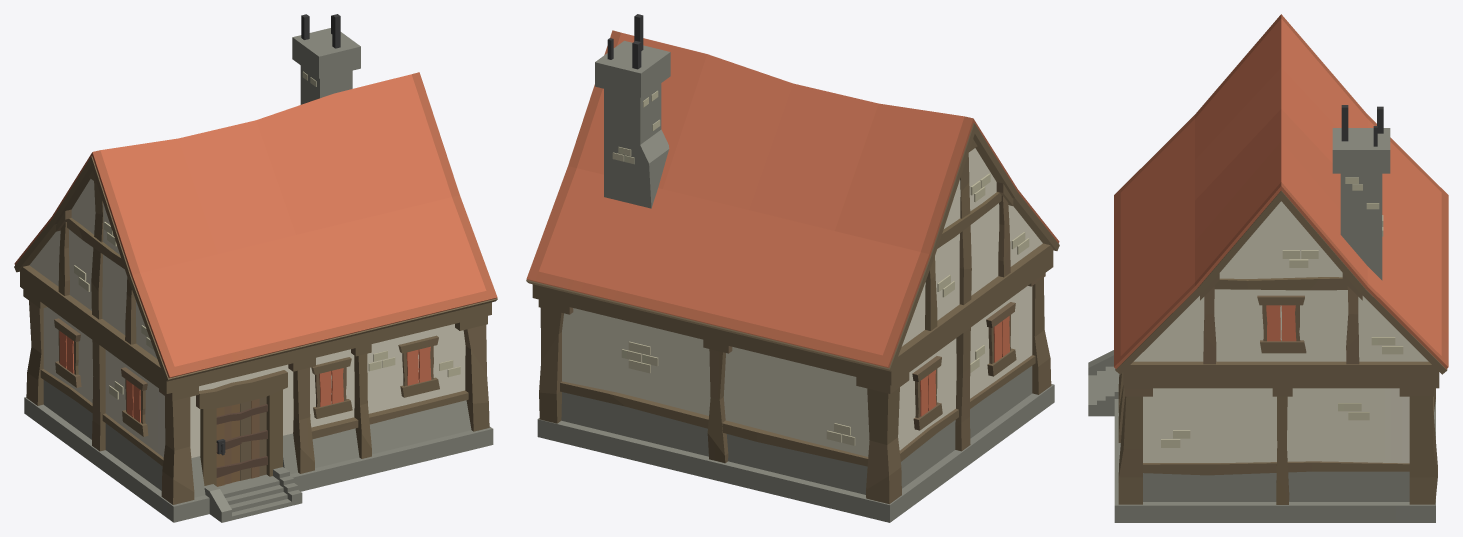
The model's file is House_4.fbx.
The picture shows the model from 3 angles, left to right: view 1: azimuth 30°, elevation 25°; view 2: azimuth 150°, elevation 25°; view 3: azimuth 270°, elevation 25°; orthographic projection. The views are drawn at different scales.
Visible parts, largest first — view 1: House_4; view 2: House_4; view 3: House_4.
Part boxes in pixels (<box>): House_4: <box>14,14,497,522</box>; House_4: <box>526,14,1059,522</box>; House_4: <box>1088,14,1448,522</box>.
Size of the model in its own units: 130 by 136 by 114.
Materials: 1 (1 with a texture image).
